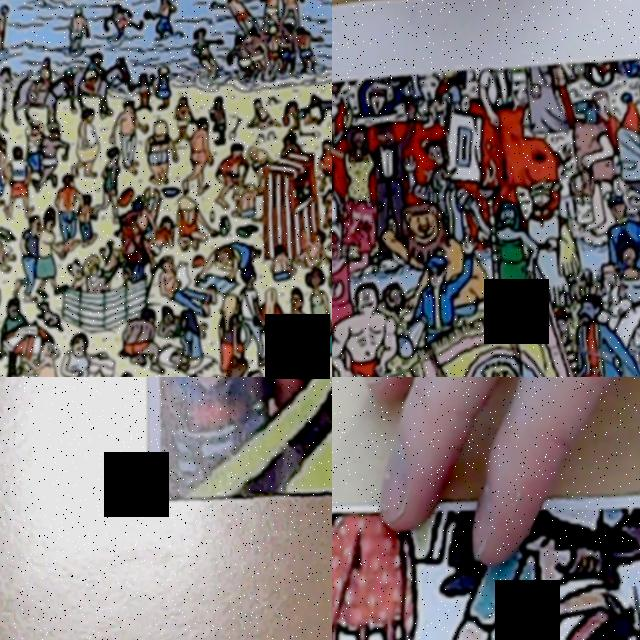waldo: (532, 575, 640, 640), (420, 125, 458, 166), (133, 207, 152, 236)
